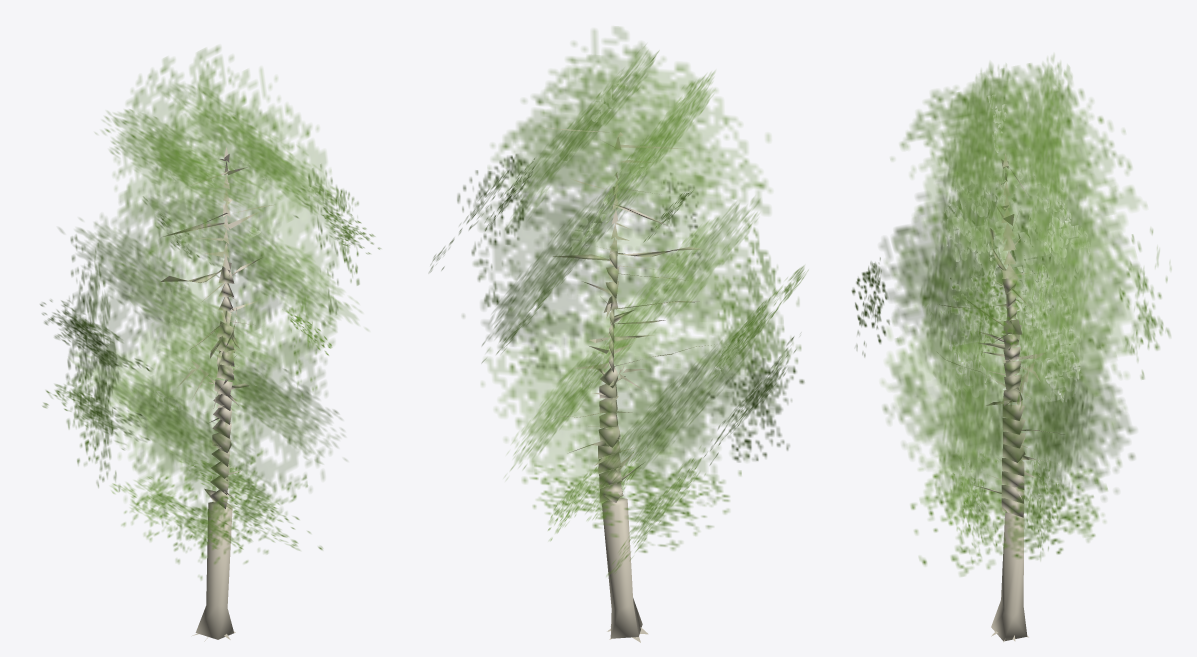
Rendered from world_tree_birch_far.glb.
The picture shows the model from 3 angles, left to right: view 1: azimuth 30°, elevation 25°; view 2: azimuth 150°, elevation 25°; view 3: azimuth 270°, elevation 25°; orthographic projection. The views are drawn at different scales.
Visible parts, largest first — view 1: Canopy, Scaffold; view 2: Canopy, Scaffold; view 3: Canopy, Scaffold.
Boxes of the visible parts, x1,y1,x2,y2 form: Canopy: (40,46,380,580); Scaffold: (160,147,273,641); Canopy: (429,26,808,576); Scaffold: (543,127,711,642); Canopy: (852,55,1171,576); Scaffold: (937,153,1064,642).
Size of the model in its own units: 5.81 by 9.05 by 4.9.
2 materials, 1 textured.
